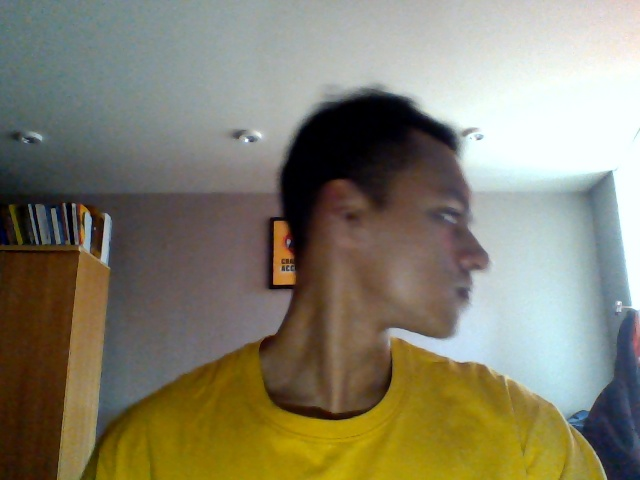no_mask: (300, 226, 492, 340)
